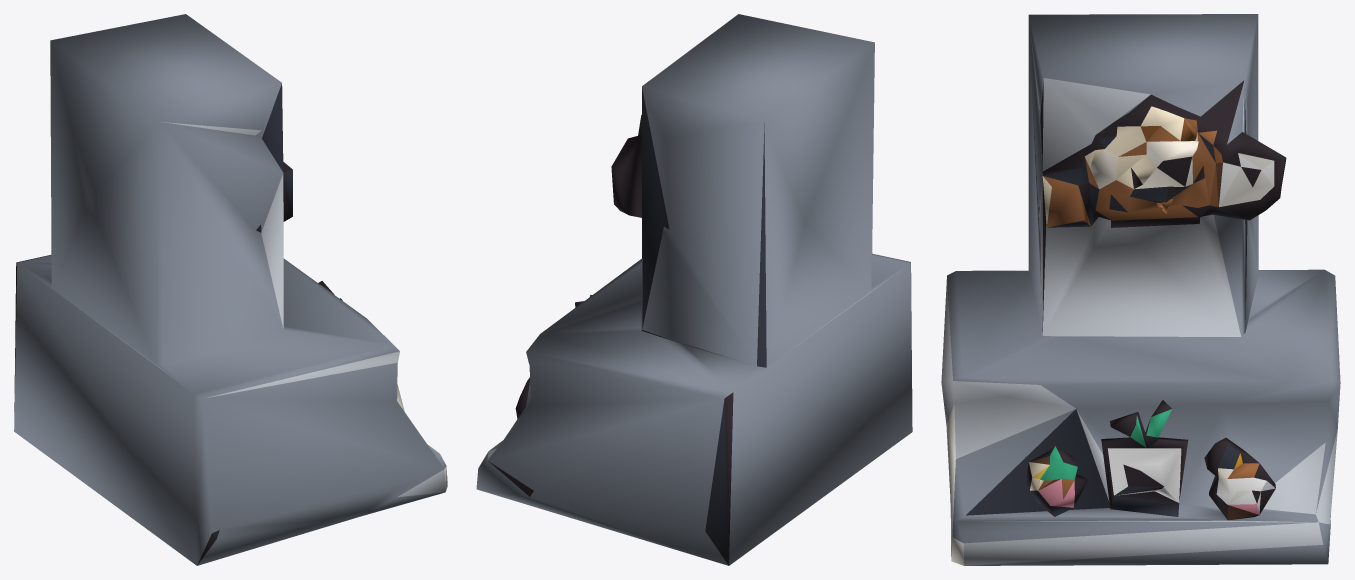
The model's file is SM_meter_box.fbx.
3 views of the same model, side by side, from view 1: azimuth 30°, elevation 25°; view 2: azimuth 150°, elevation 25°; view 3: azimuth 270°, elevation 25° (orthographic). The views are drawn at different scales.
Parts seen in each view (by area): view 1: SM_meter_box; view 2: SM_meter_box; view 3: SM_meter_box.
Boxes of the visible parts, bbox=[...] form: SM_meter_box: bbox=[14, 14, 447, 565]; SM_meter_box: bbox=[476, 14, 912, 565]; SM_meter_box: bbox=[941, 14, 1340, 565].
Size of the model in its own units: 32.14 by 50 by 41.45.
1 material, 1 textured.
